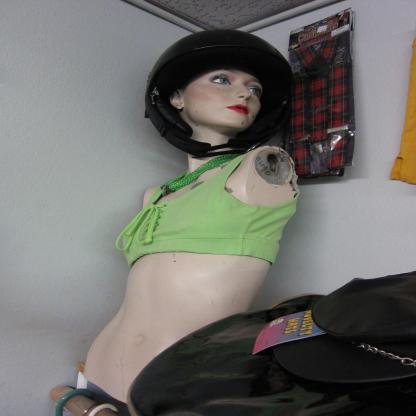Helmet: (147, 25, 288, 160)
